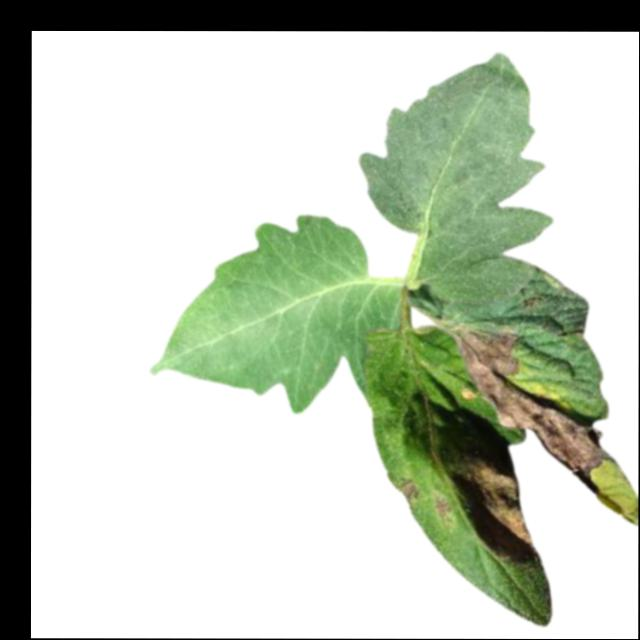Late_blight: (447, 327, 612, 490), (455, 444, 536, 563), (433, 493, 452, 533), (395, 479, 421, 503)
